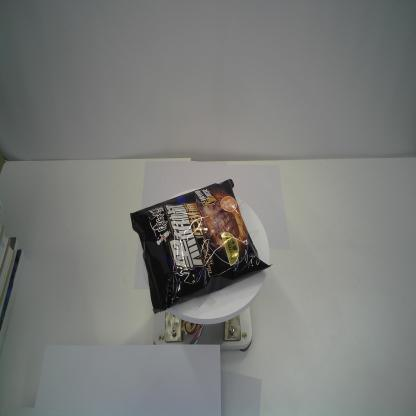Instant Noodles: (129, 178, 273, 314)
